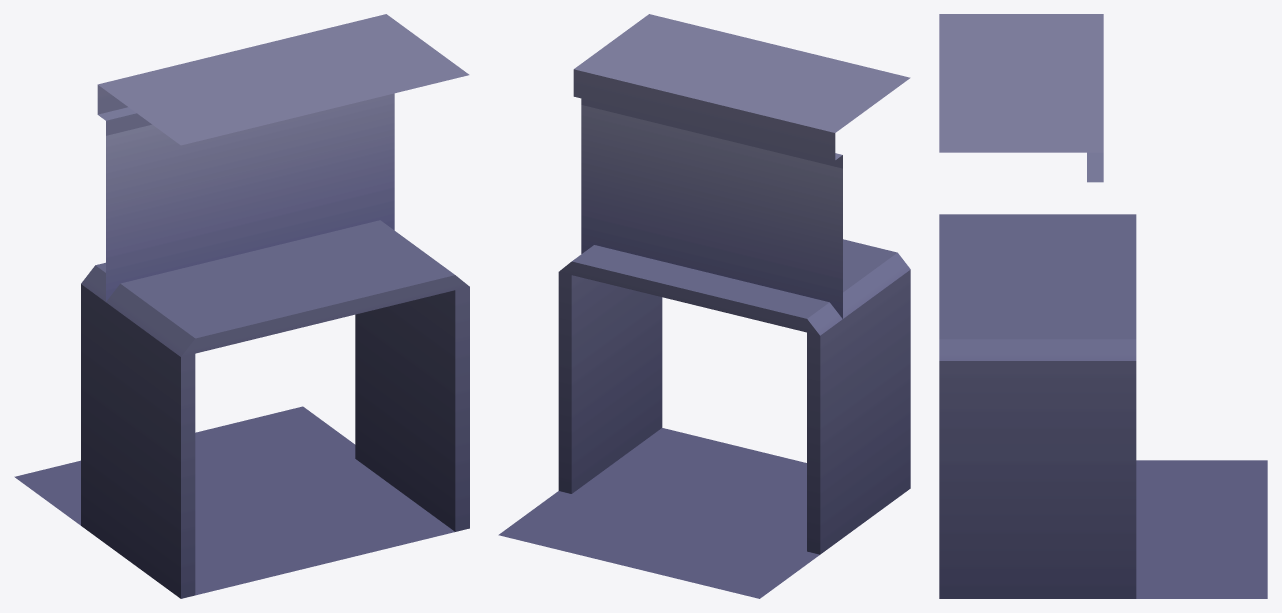
Rendered from structure-doorway-wide.glb.
3 views of the same model, side by side, from view 1: azimuth 30°, elevation 25°; view 2: azimuth 150°, elevation 25°; view 3: azimuth 270°, elevation 25° (orthographic). The views are drawn at different scales.
Visible parts, largest first — view 1: structure-doorway-wide; view 2: structure-doorway-wide; view 3: structure-doorway-wide.
Part boxes in pixels (x1,y1,x2,y2): structure-doorway-wide: [14, 14, 469, 598]; structure-doorway-wide: [498, 14, 910, 598]; structure-doorway-wide: [939, 14, 1267, 598].
Size of the model in its own units: 2 by 3 by 2.
Materials: 1 (1 with a texture image).
